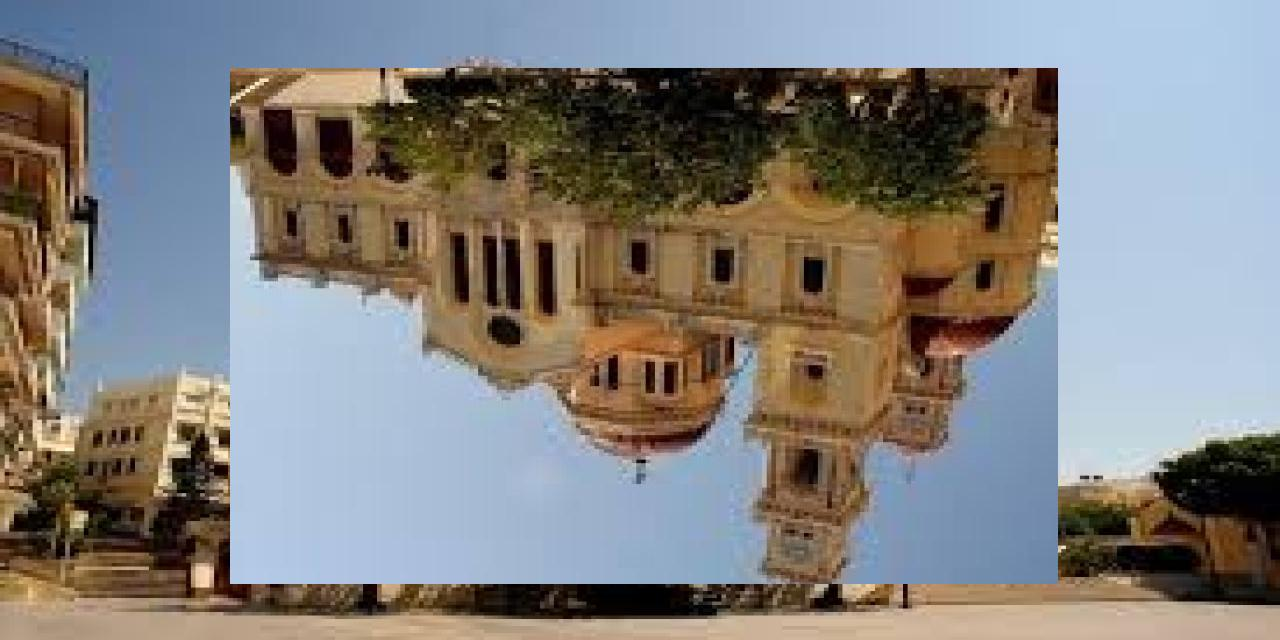Agios Minas: (231, 69, 1059, 585)
